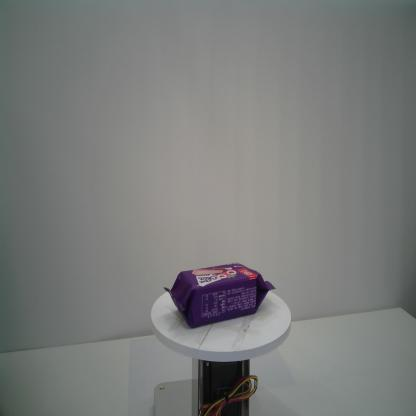Dessert: (164, 262, 276, 329)
